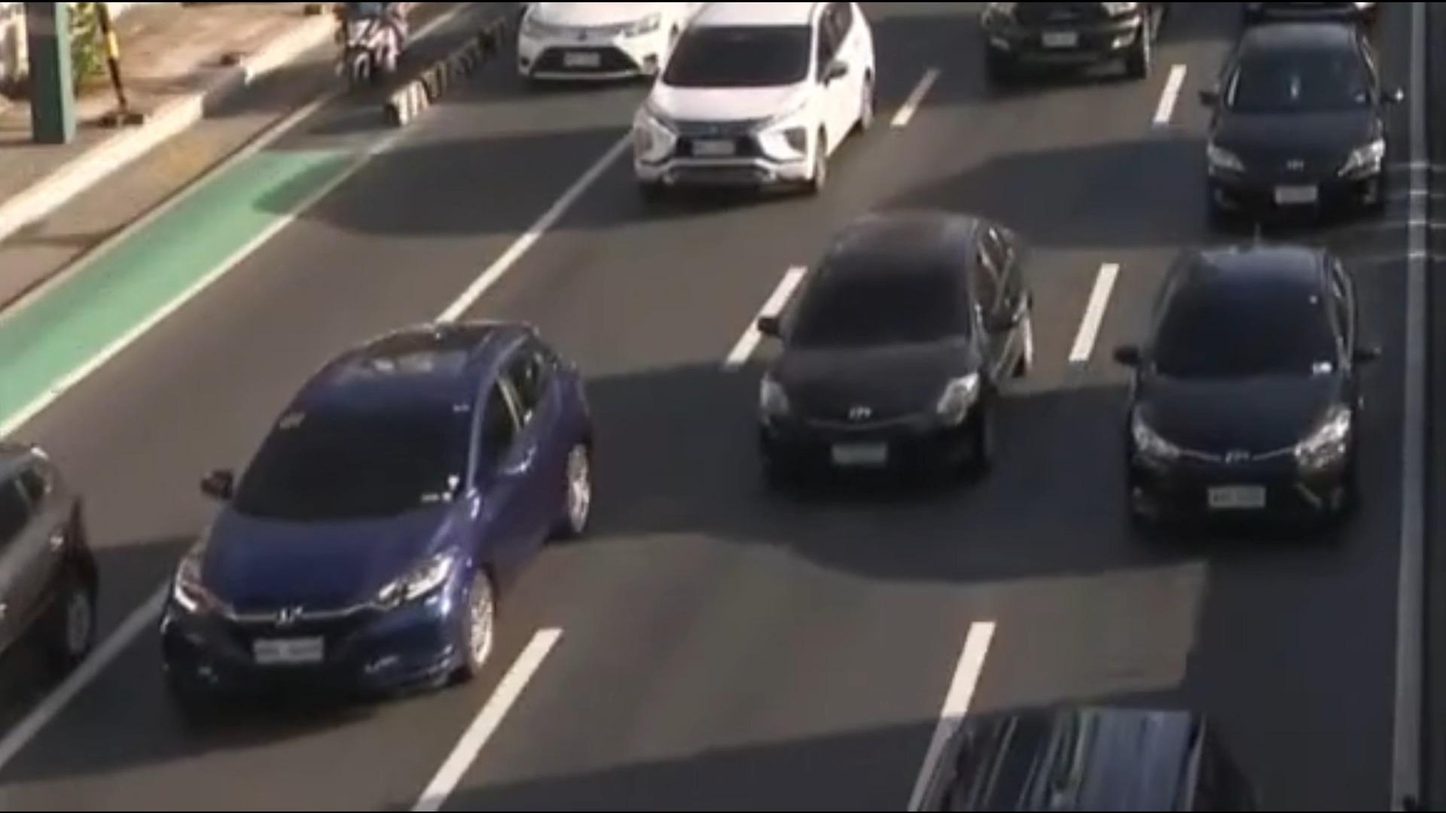SUV: (168, 324, 567, 710), (625, 0, 894, 200), (0, 437, 90, 686)
Sedan: (749, 216, 1024, 494), (1114, 243, 1367, 537), (1190, 23, 1395, 216), (505, 0, 689, 84)
